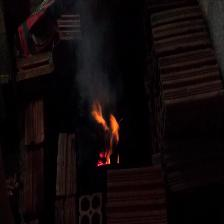fire: (90, 105, 128, 162), (78, 34, 111, 99)
